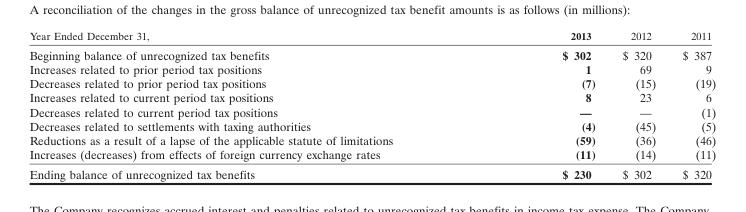table: (28, 29, 715, 180)
table column: (28, 29, 476, 180), (476, 29, 608, 180), (608, 29, 668, 180), (668, 29, 715, 180)
table column header: (28, 29, 715, 44)
table row: (28, 44, 715, 61), (28, 146, 715, 163), (28, 163, 715, 180), (28, 29, 715, 44), (28, 75, 715, 90), (28, 61, 715, 75), (28, 90, 715, 104), (28, 104, 715, 118), (28, 118, 715, 132), (28, 132, 715, 146)
